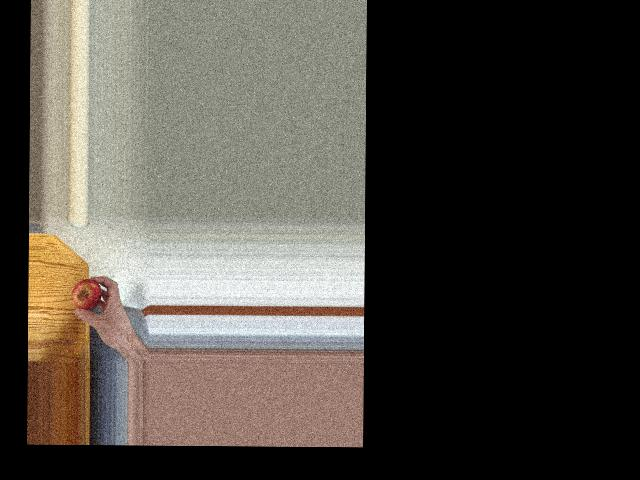apple: (71, 277, 103, 314)
